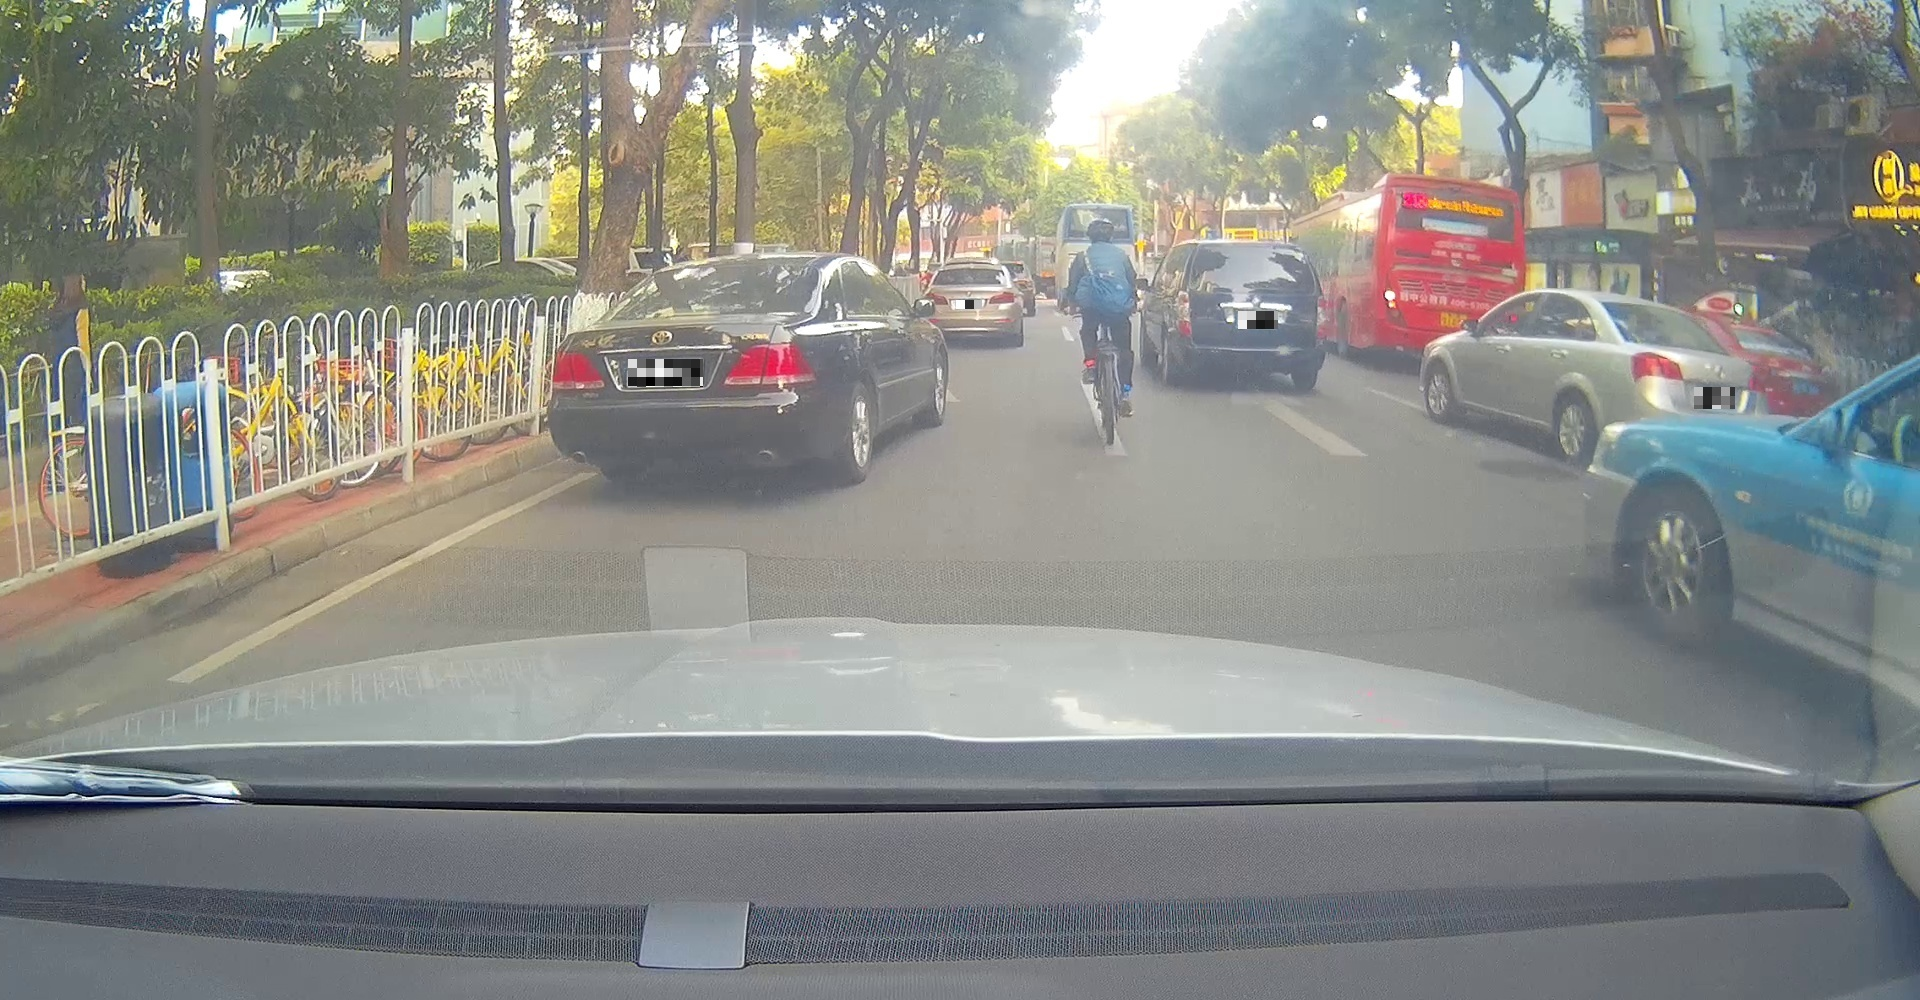L_light: (551, 349, 604, 391), (1629, 353, 1684, 385), (1175, 289, 1192, 338), (924, 293, 949, 306)
R_light: (721, 340, 817, 385), (1314, 294, 1330, 346), (1747, 371, 1769, 393), (990, 291, 1015, 306)
T_light: (660, 305, 717, 317), (1646, 307, 1679, 319), (1233, 246, 1266, 255), (961, 269, 982, 275)
day-no: (545, 256, 823, 486), (1596, 299, 1769, 471), (1175, 241, 1333, 390), (919, 266, 1018, 345)
plate_1: (629, 359, 703, 387)
plate_2: (956, 299, 982, 308)
plate_3: (1238, 311, 1277, 329)
plate_4: (1694, 387, 1735, 409)
